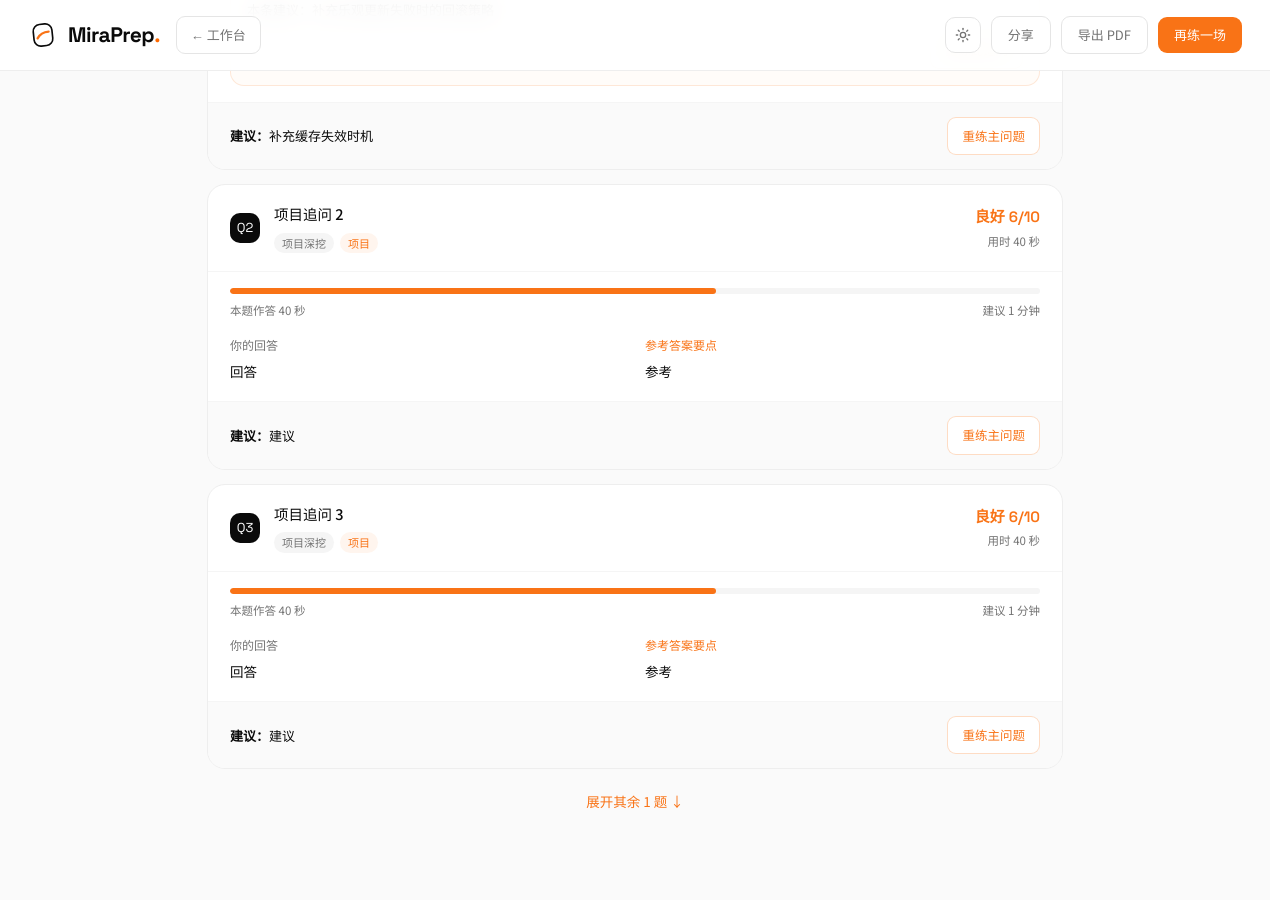
Test: ReportClient › renders the real report, history comparison, partial label and full review details
(page scrolled)
Expected: the text "项目深挖" below "项目追问 2" is shown, x1=282 y1=235 x2=326 y2=251
Expected: the text "补充缓存失效时机" is shown, x1=269 y1=126 x2=373 y2=145
Click the button "展开其余 1 题 ↓". click: (635, 802)
box: x1=207 y1=783 x2=1063 y2=820
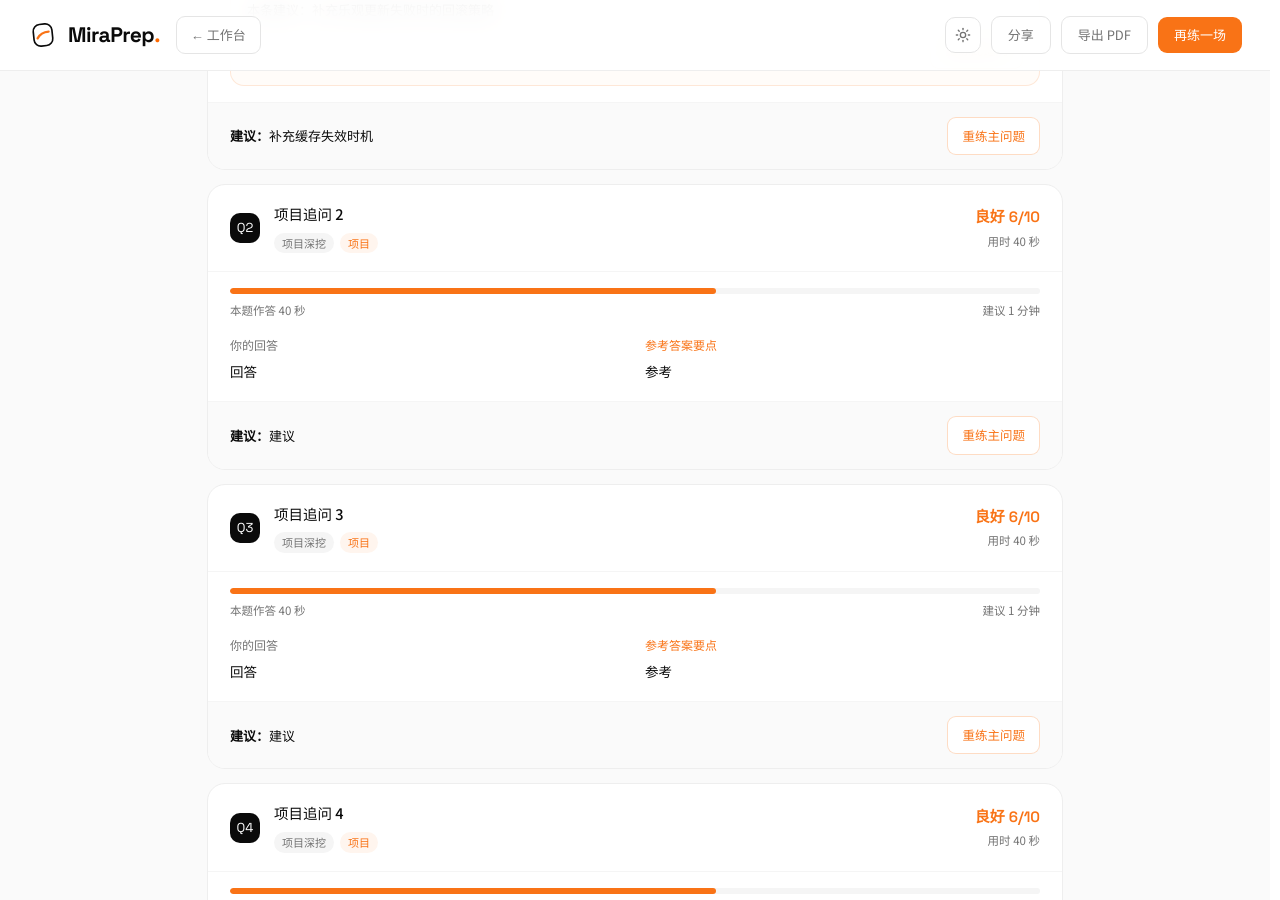
Result: the text "项目追问 4" is shown at x1=274 y1=802 x2=344 y2=823
